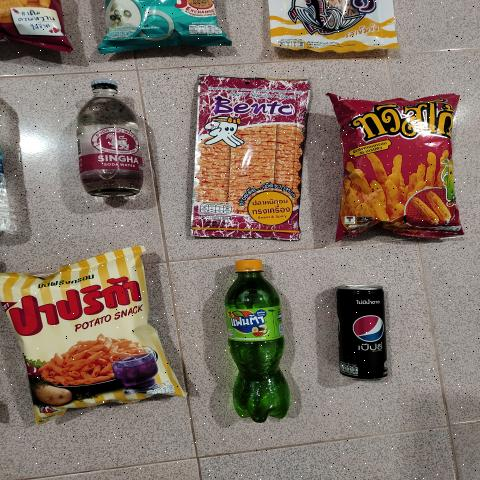bento_red: (191, 81, 308, 234)
fanta_green: (223, 256, 289, 420)
paprika: (3, 273, 181, 413)
pepsi_black: (334, 284, 385, 382)
singha_soda: (78, 78, 140, 198)
twisco: (346, 98, 452, 234)
